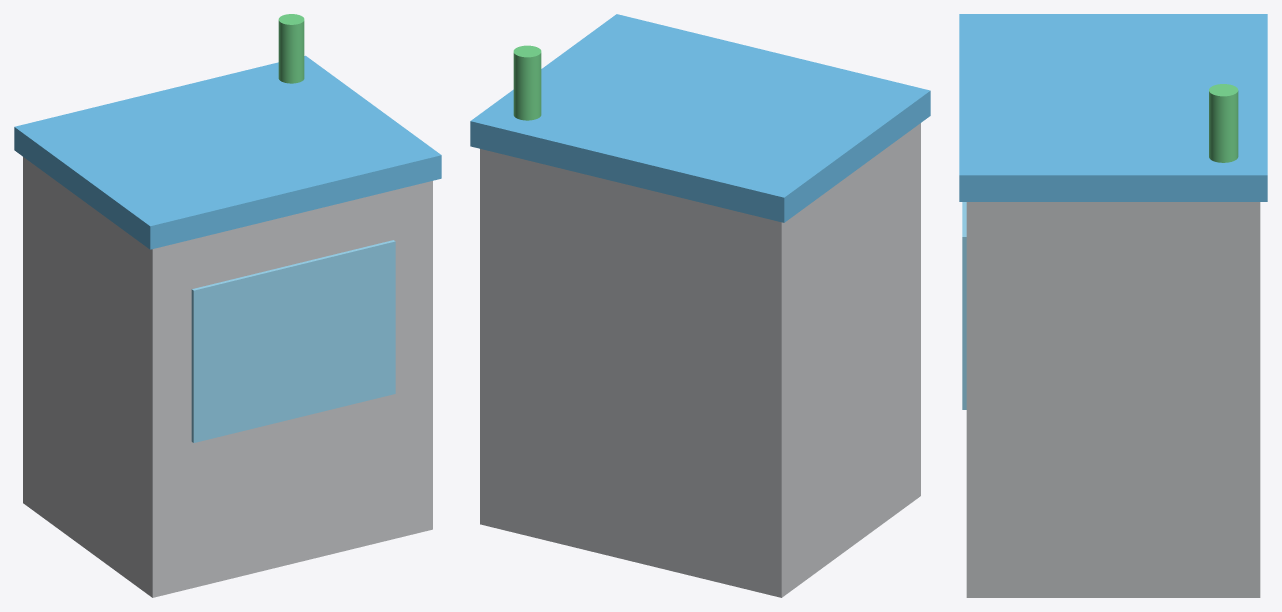
The model's file is machine.glb.
3 views of the same model, side by side, from view 1: azimuth 30°, elevation 25°; view 2: azimuth 150°, elevation 25°; view 3: azimuth 270°, elevation 25° (orthographic). The views are drawn at different scales.
Parts seen in each view (by area): view 1: machine; view 2: machine; view 3: machine.
Part boxes in pixels (box(x1,y1,x2,y2)): machine: box(14, 14, 441, 597); machine: box(470, 14, 930, 597); machine: box(959, 14, 1267, 597).
Size of the model in its own units: 0.52 by 0.74 by 0.42.
